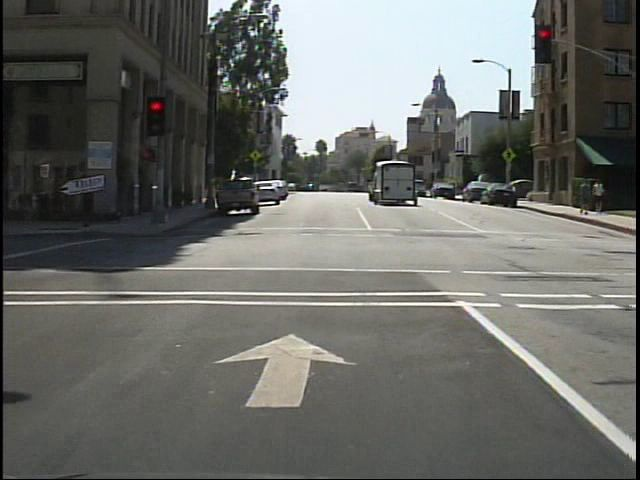person: (73, 169, 110, 234), (578, 177, 595, 218), (592, 178, 608, 218)
